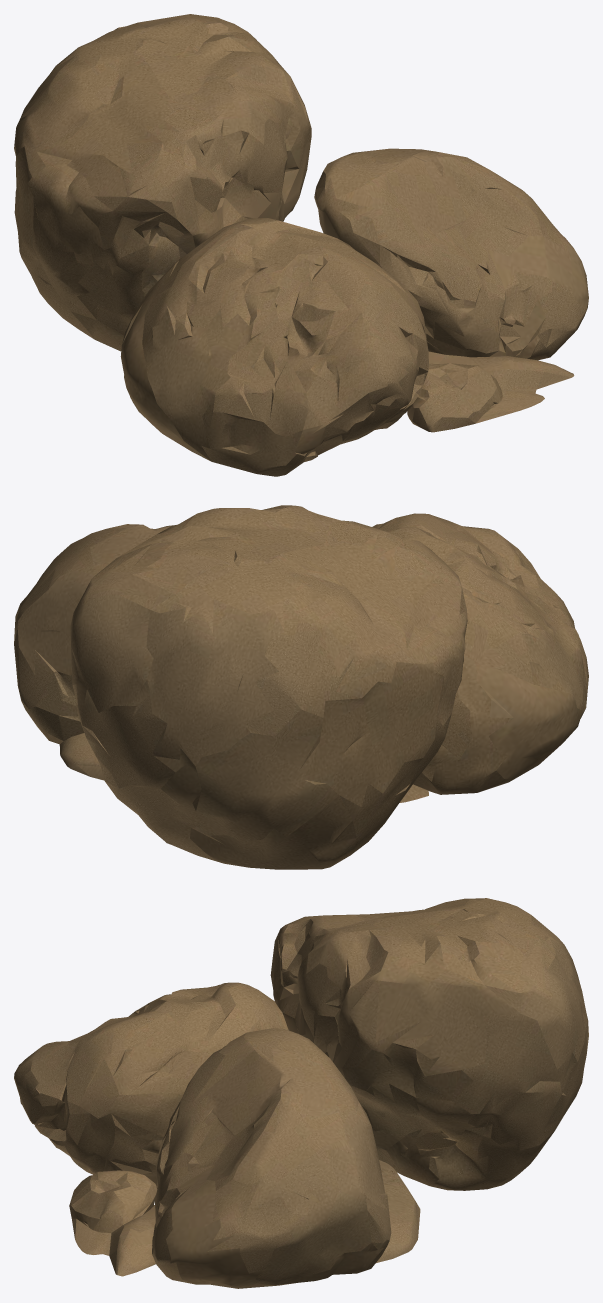
File: p_boulders.glb
3 renders of one model, top to bottom at view 1: azimuth 30°, elevation 25°; view 2: azimuth 150°, elevation 25°; view 3: azimuth 270°, elevation 25°, orthographic. The views are drawn at different scales.
Size of the model in its own units: 1.66 by 0.92 by 1.9.
1 material, 1 textured.
